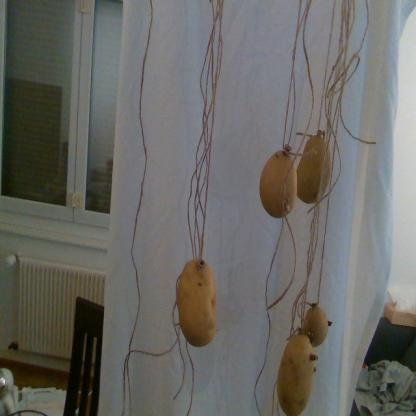potato: (177, 259, 218, 349), (277, 334, 318, 416), (296, 136, 333, 206), (261, 151, 298, 219), (301, 305, 330, 353)
